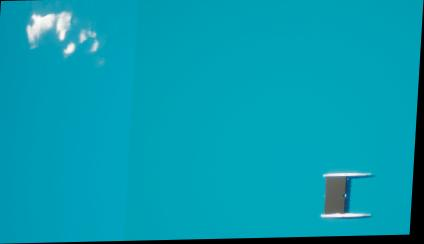boat: (320, 170, 374, 225)
drone: (325, 179, 347, 214)
land_base: (14, 4, 120, 78)
